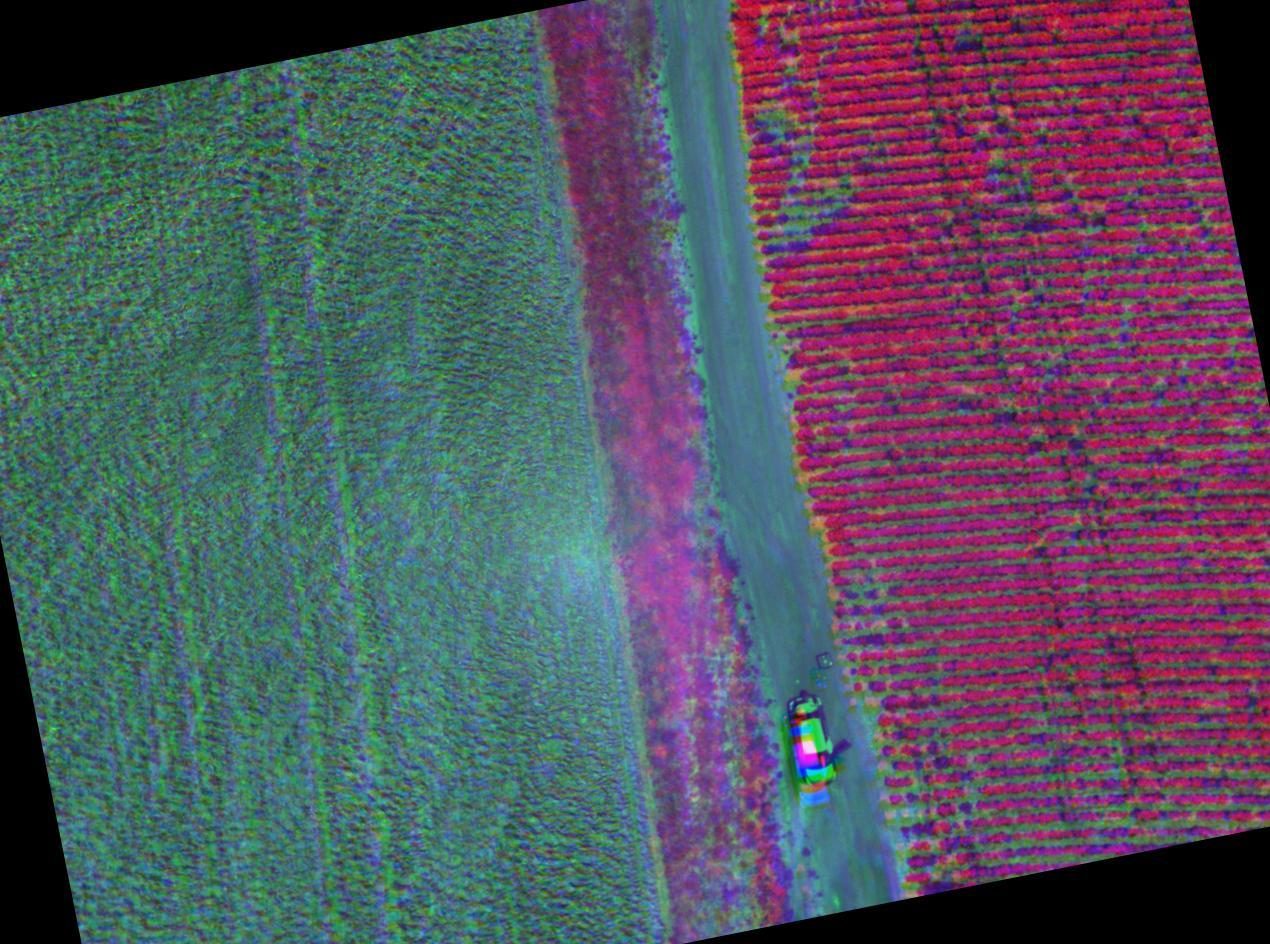dc: (883, 779, 1016, 881), (1061, 737, 1164, 840), (756, 174, 855, 259), (842, 565, 917, 652), (852, 678, 922, 754), (754, 102, 801, 152)
